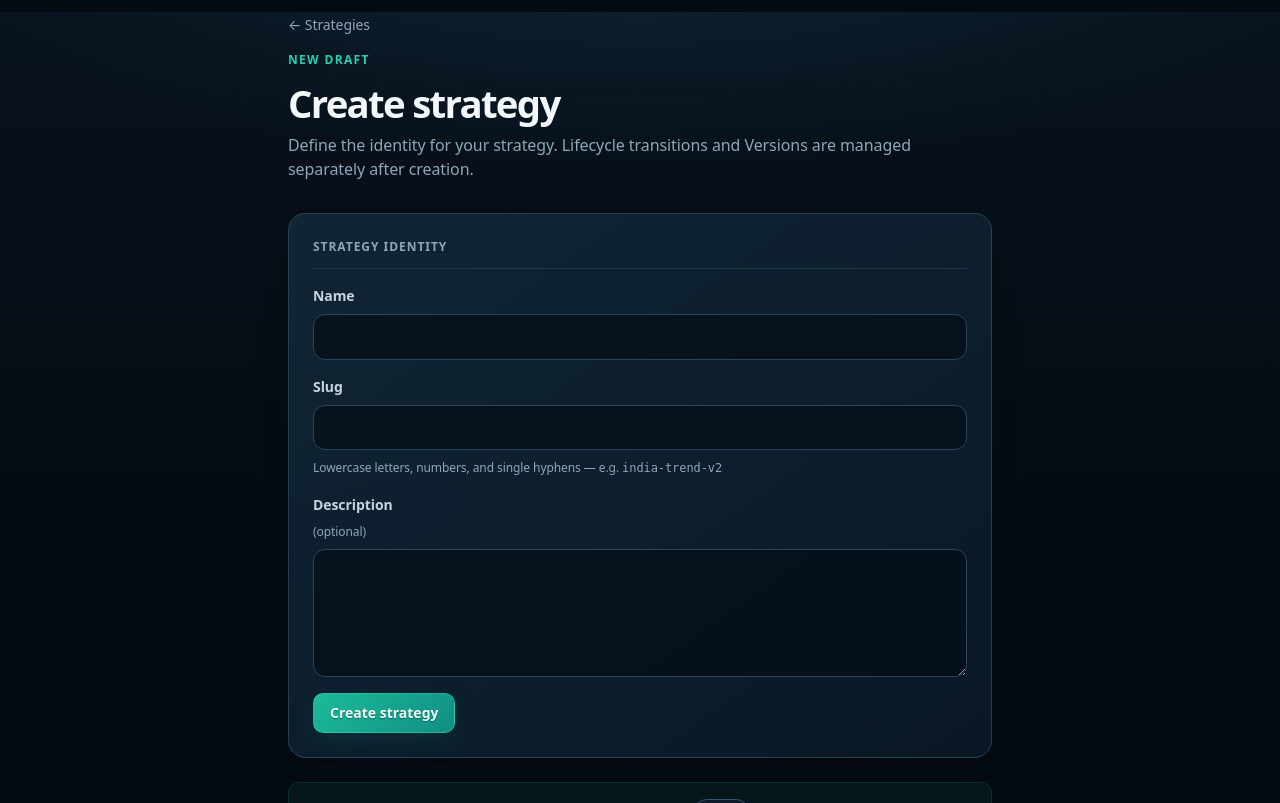
StrategyNewPage — create form › rejects a name shorter than 3 characters
The image size is (1280, 803).
In the field labelled "Name": (640, 337) [313,314,967,360], type "ab"
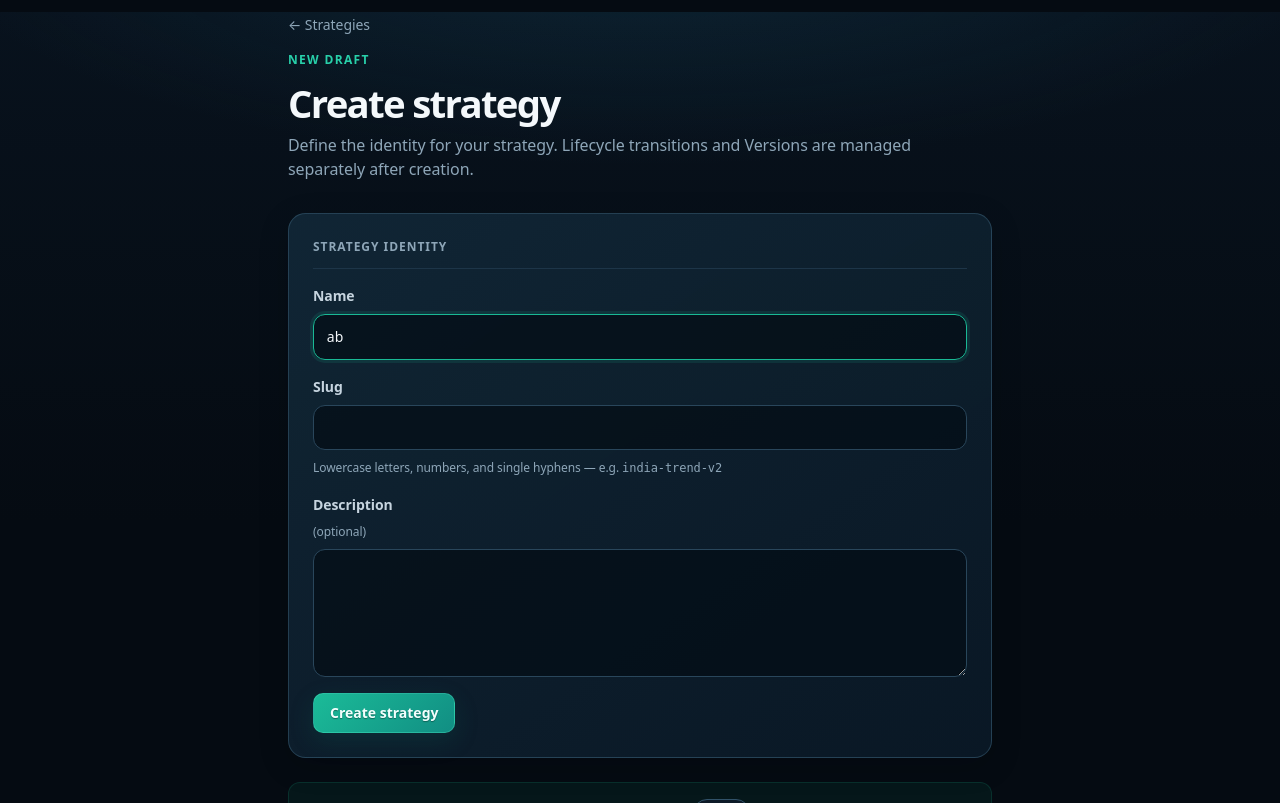
In the field labelled "Slug": (640, 427) [313,404,967,450], type "ab"
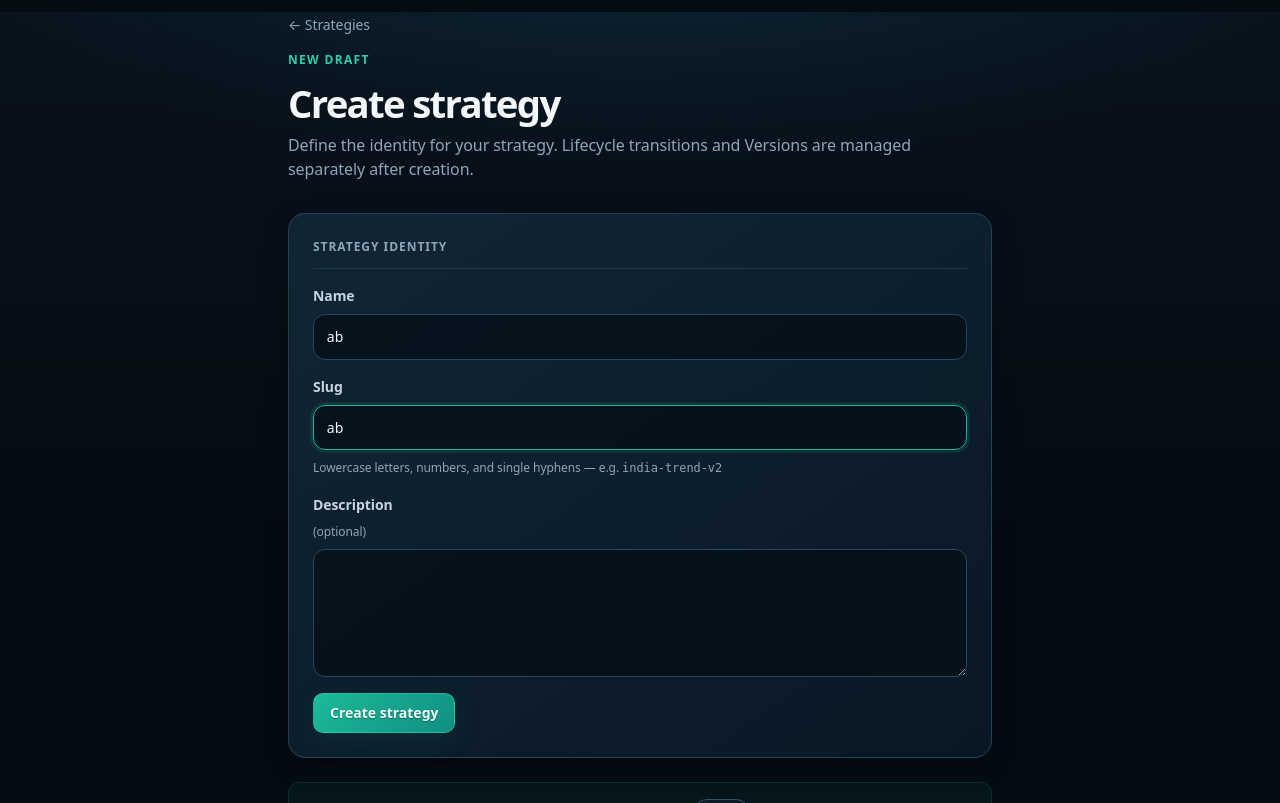
Click the button "Create strategy": (384, 713) [313,693,456,733]
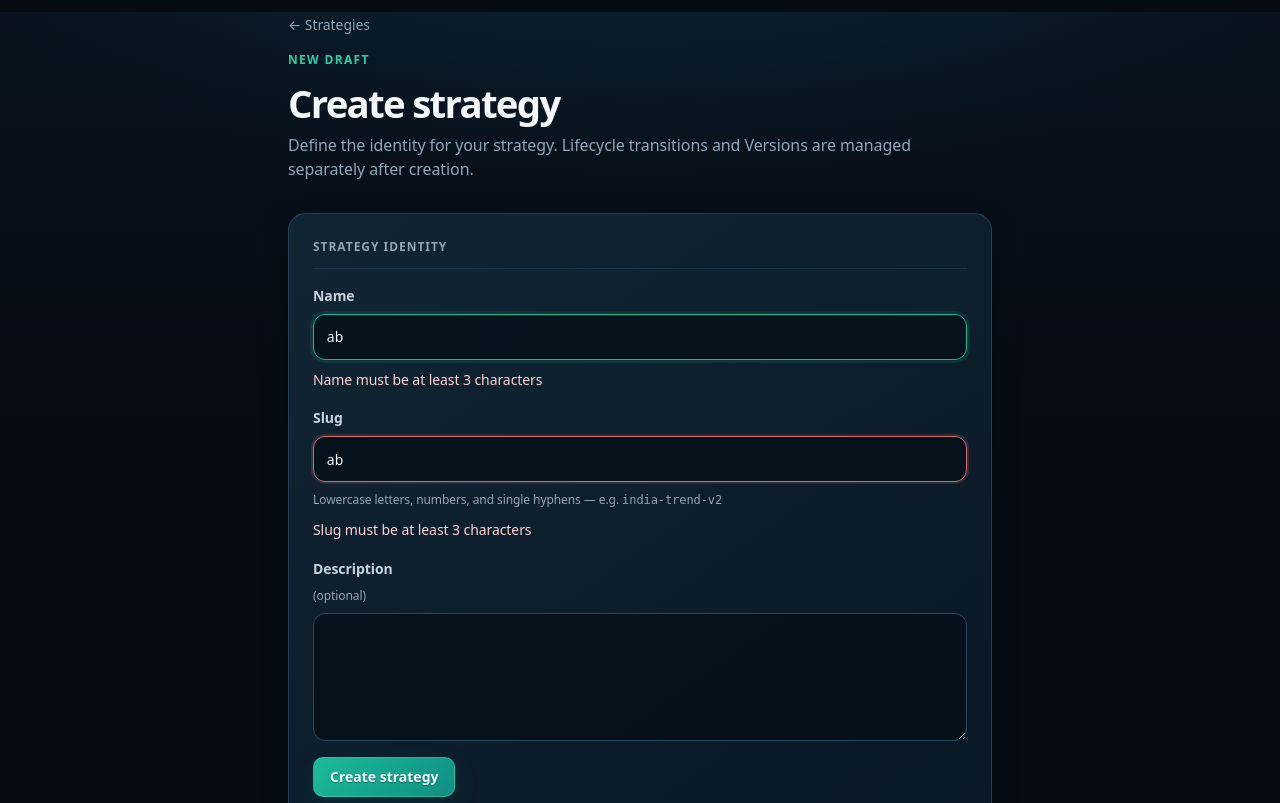
Expected: the text "Name must be at least 3 characters" is shown, [313,370,542,388]
